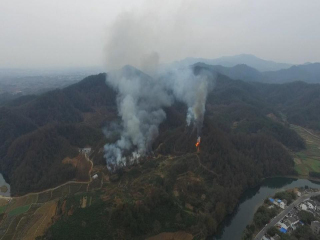smoke: (99, 13, 172, 174), (175, 67, 215, 134)
